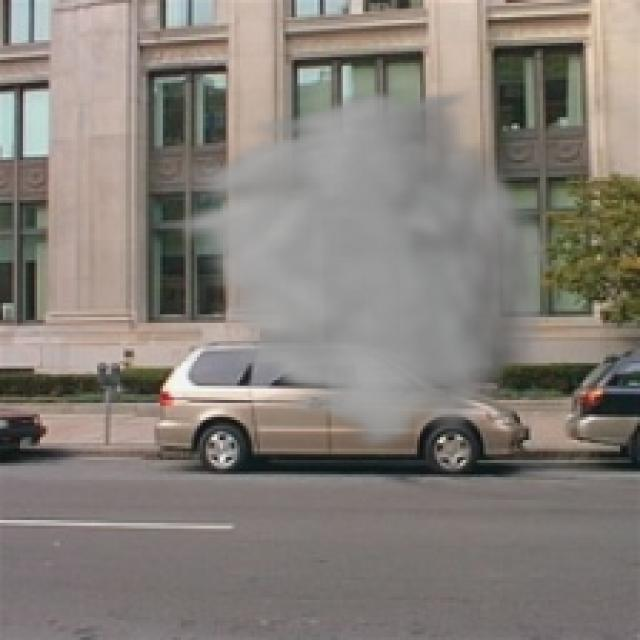Smoke: (160, 86, 560, 454)
